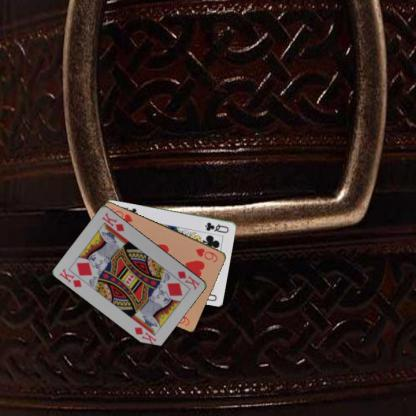6h: (193, 245, 219, 264)
Kd: (175, 268, 201, 291), (57, 266, 83, 288)
Qc: (203, 220, 230, 234)
